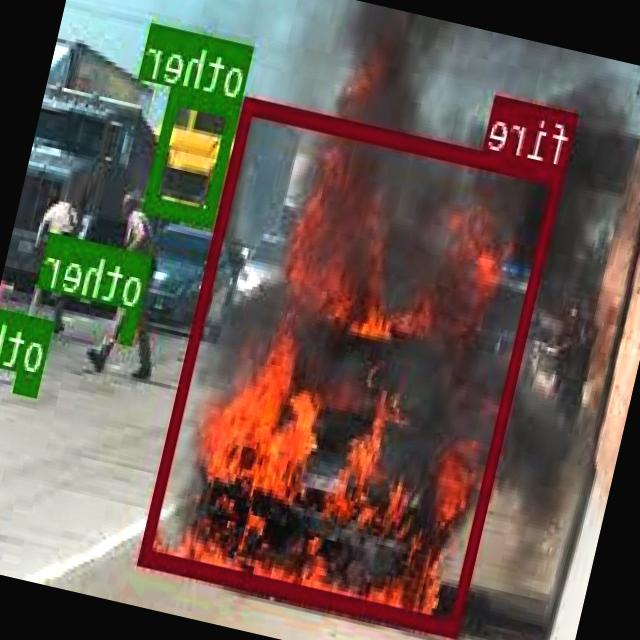fire: (140, 95, 568, 636)
